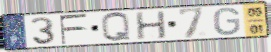3: (30, 17, 57, 46)
7: (178, 7, 206, 40)
F: (57, 13, 90, 46)
G: (213, 7, 242, 37)
H: (134, 10, 169, 41)
Q: (100, 11, 133, 44)
